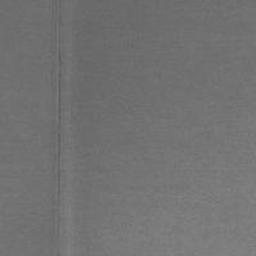Welding line: (55, 0, 64, 256)
